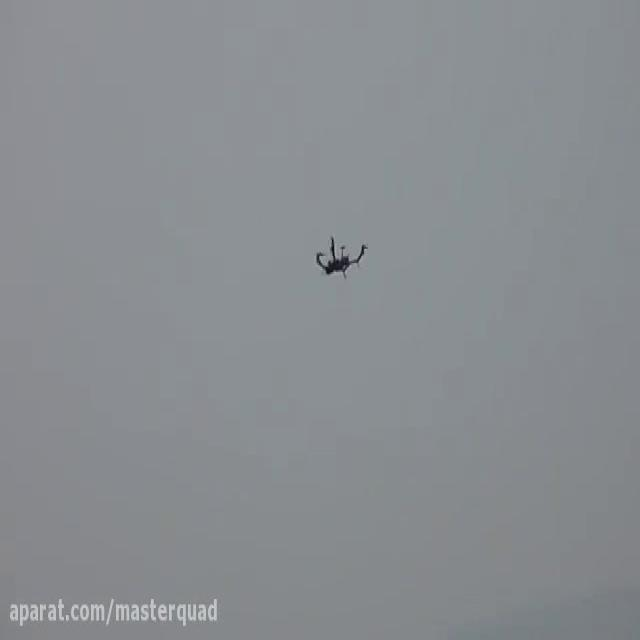drone: (311, 226, 374, 281)
